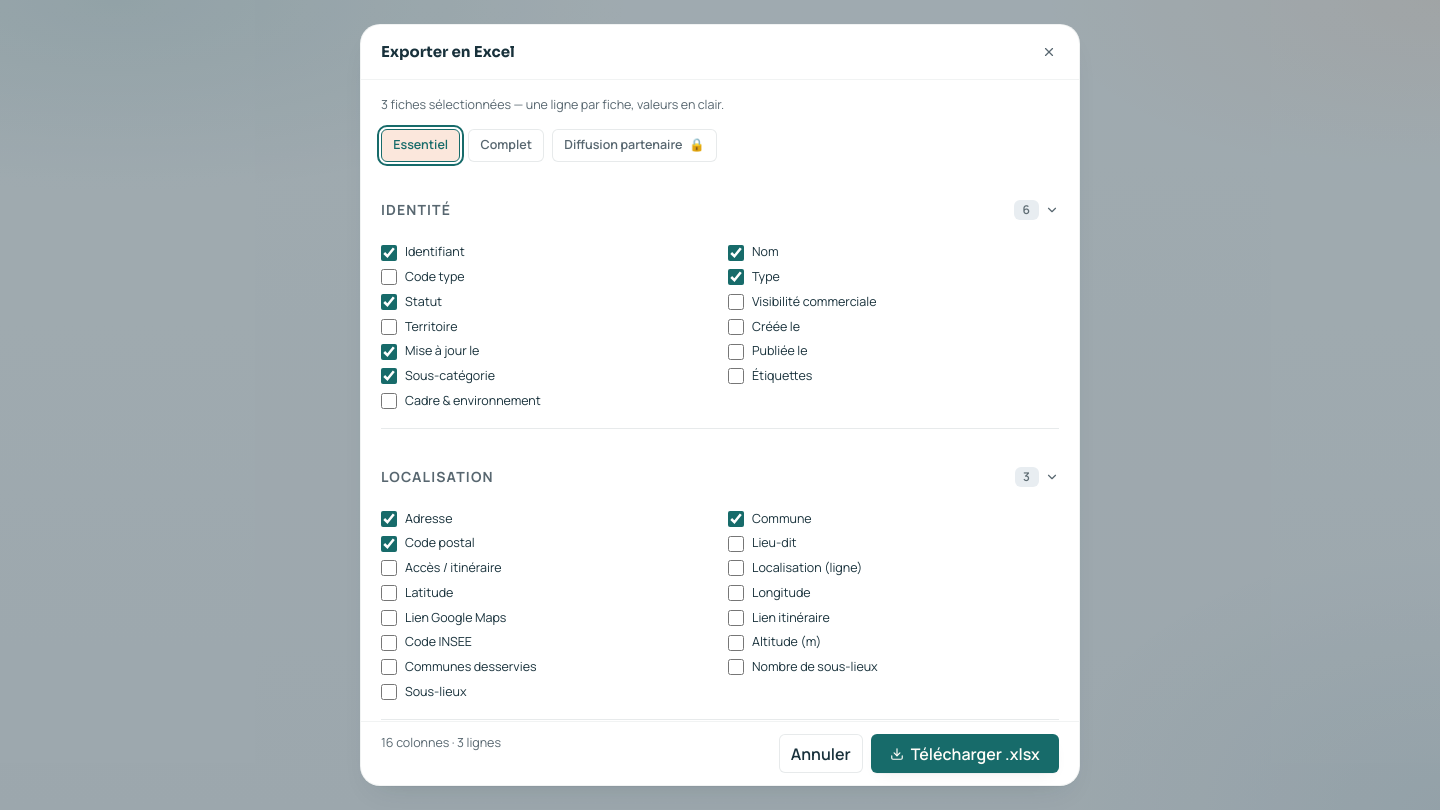
Scenario: ExportExcelModal (§208) › préréglage Diffusion : cases désactivées (verrouillé), colonnes recalculées du code
Click the button "Diffusion partenaire 🔒": (634, 146) [552,129,717,162]
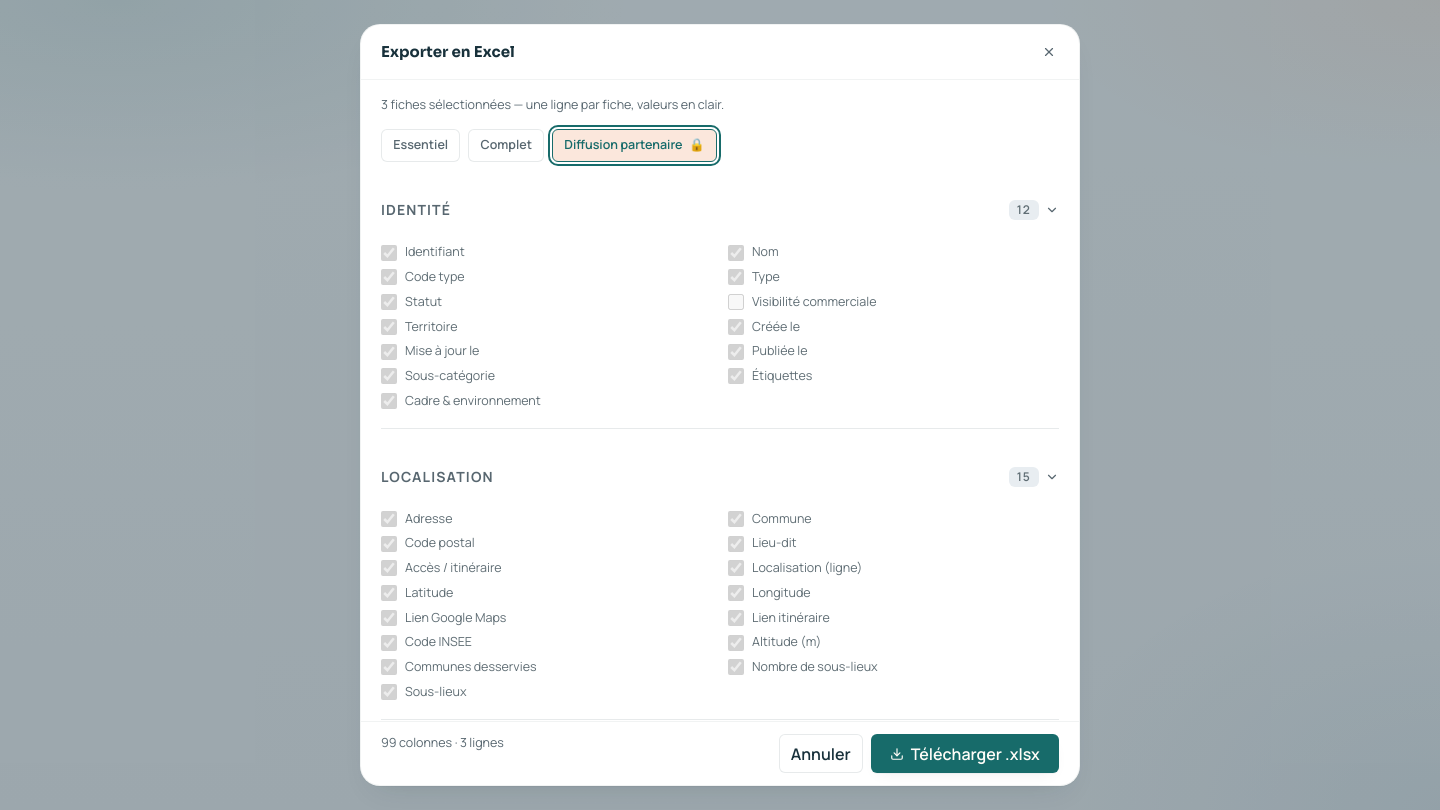
Expected: the checkbox labelled "Nom" is checked, [728,245,744,261]
Now the checkbox labelled "Nom" is disabled, box [728,245,744,261]
